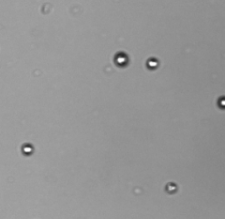Dead Cell: (164, 181, 179, 193)
Living Cell: (114, 52, 129, 67), (146, 56, 160, 69), (21, 143, 34, 156)
